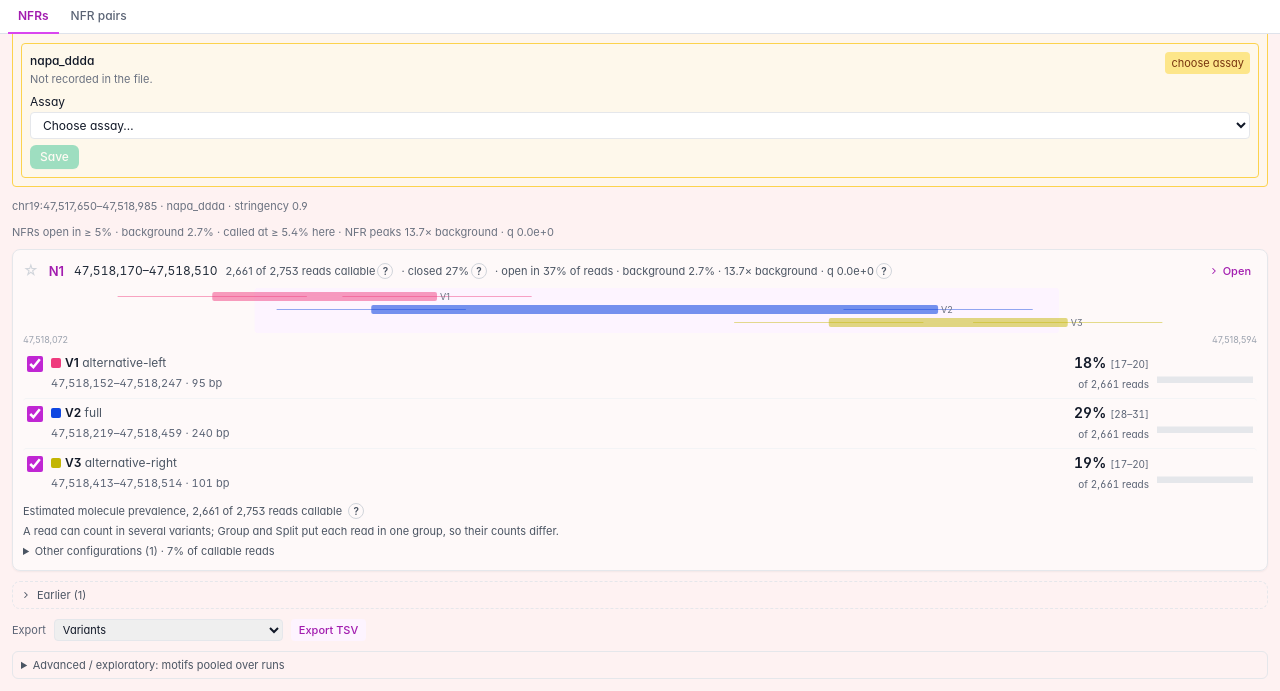
Scenario: Accessibility (preview), round 2: drill-down, one NFR list with stars, the open card's views › a starred NFR whose run is gone is in Earlier with its numbers, and offers to find variants again there
(page scrolled)
Click the button "Earlier (1)" at (57, 594), box left=13, top=582, right=1267, bottom=608
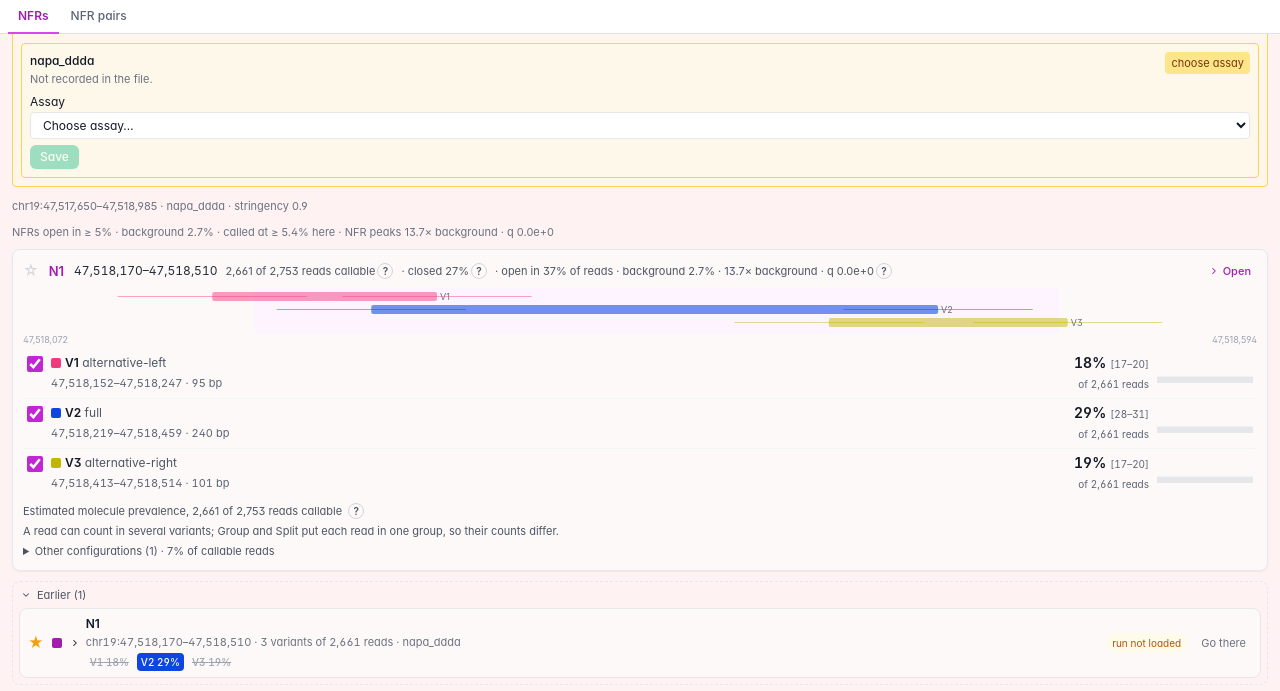
Expected: the element with test id "nfr-card" shows "run not loaded", left=1112, top=636, right=1181, bottom=648
Expected: the element with test id "nfr-card" shows "Go there", left=1195, top=632, right=1252, bottom=654
Click the button that starts with "chr19" at (101, 642), box left=70, top=614, right=1098, bottom=670
(page scrolled)
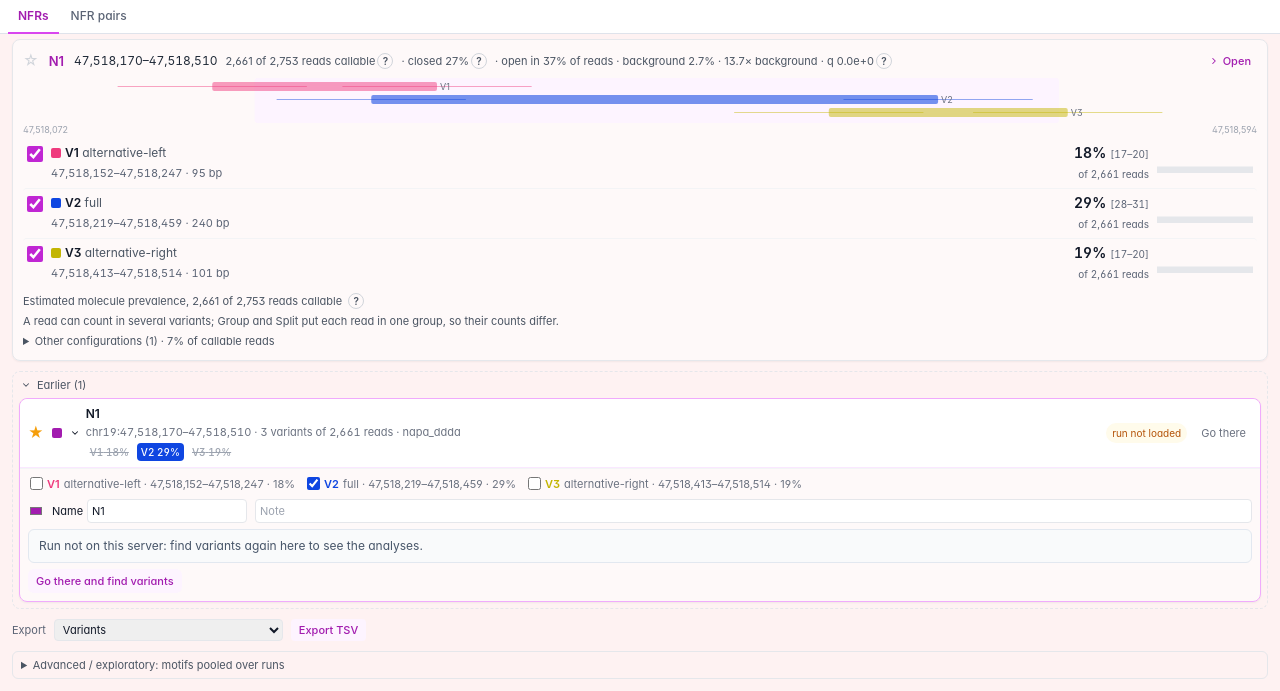
Click the button "Go there and find variants" at (105, 580), box left=28, top=568, right=182, bottom=592
(page scrolled)
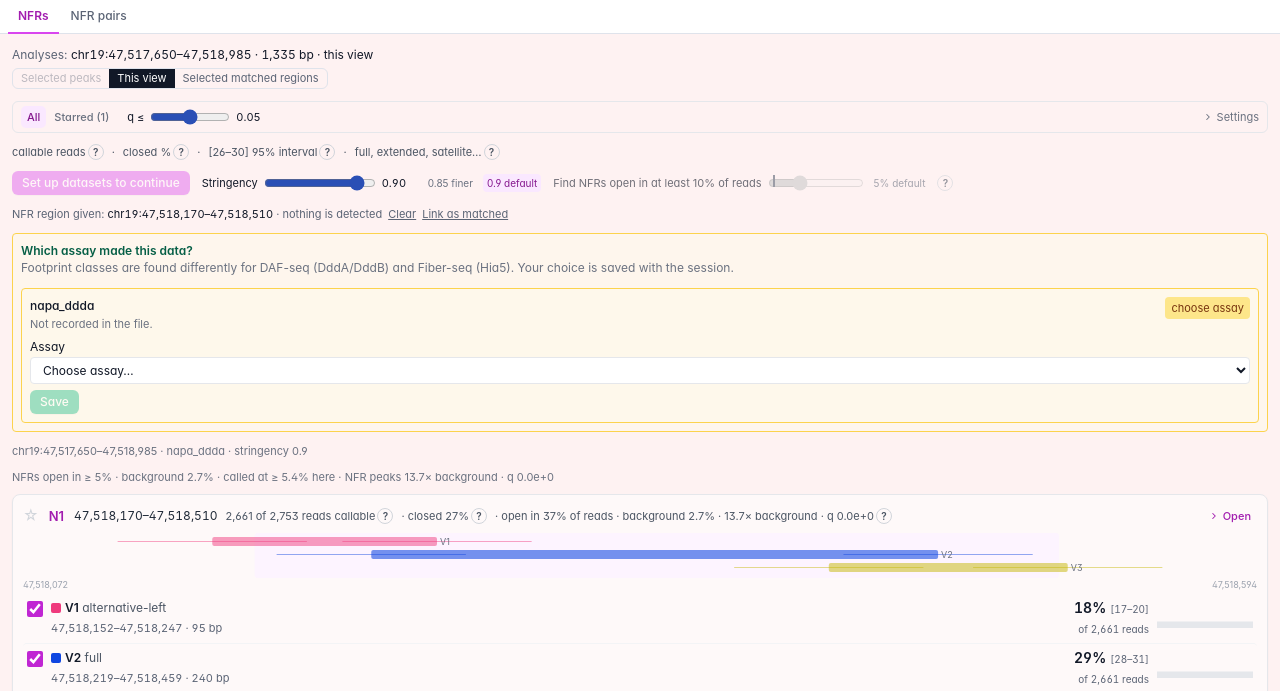
Expected: the button "Set up datasets to continue" is shown, left=12, top=170, right=190, bottom=194
Click the button "Settings" at (1231, 116), box left=1203, top=108, right=1259, bottom=126
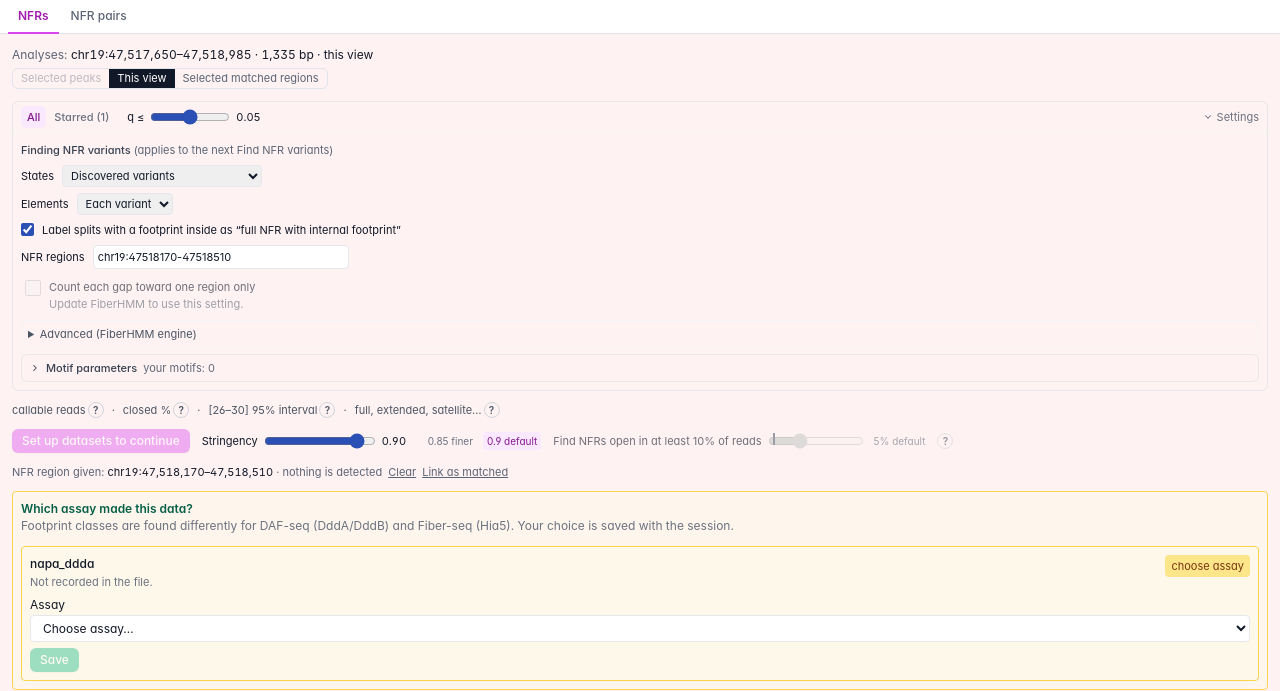
Expected: the field labelled "NFR regions" holds "chr19:47518170-47518510", left=93, top=244, right=349, bottom=268
